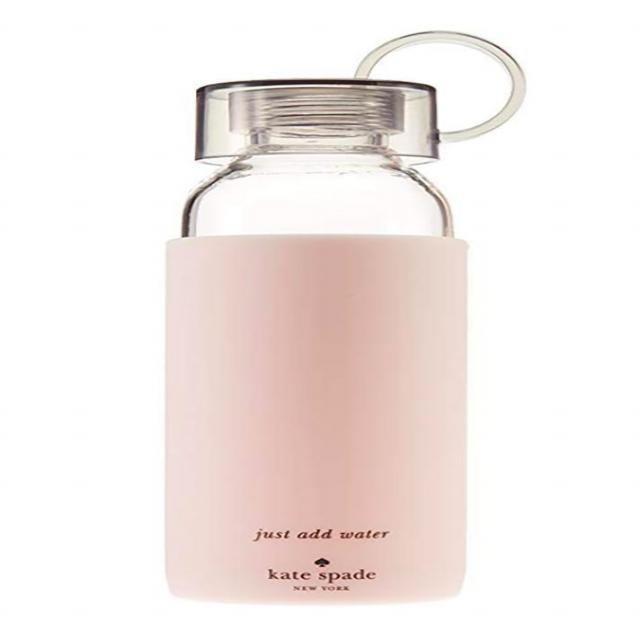gym bottle: (156, 80, 478, 608)
